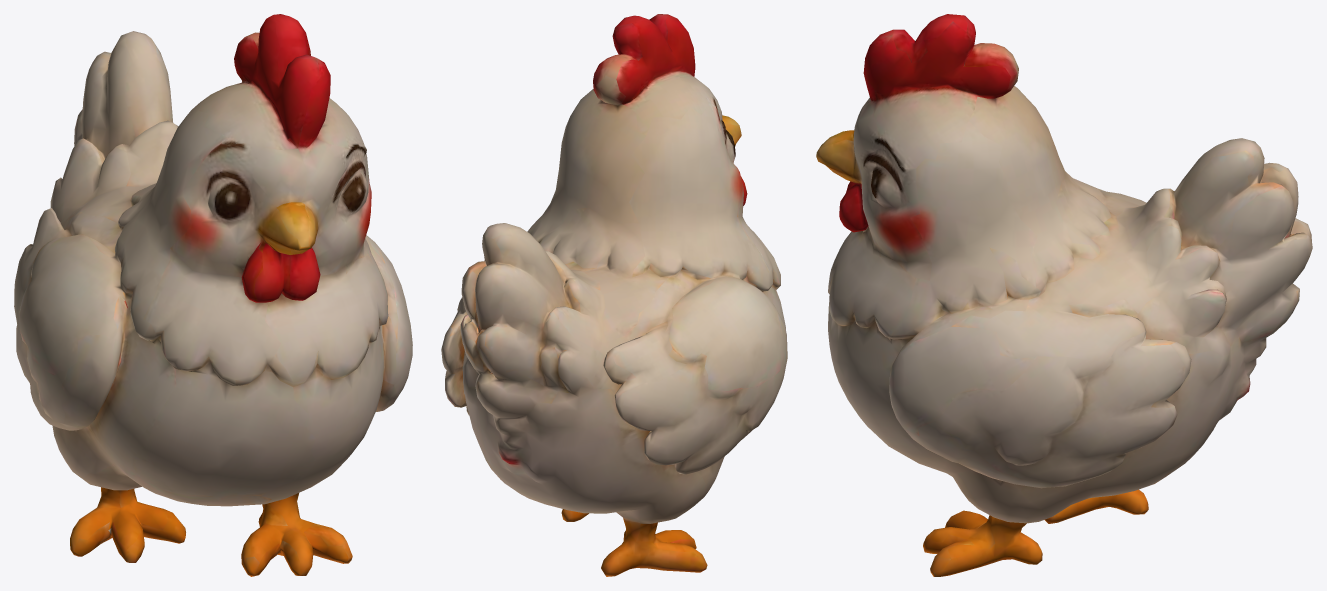
Rendered from chicken.glb.
3 views of the same model, side by side, from view 1: azimuth 30°, elevation 25°; view 2: azimuth 150°, elevation 25°; view 3: azimuth 270°, elevation 25° (orthographic). The views are drawn at different scales.
Parts seen in each view (by area): view 1: textured_mesh.obj; view 2: textured_mesh.obj; view 3: textured_mesh.obj.
Part boxes in pixels (bbox=[...]): textured_mesh.obj: bbox=[14, 14, 412, 576]; textured_mesh.obj: bbox=[441, 14, 787, 576]; textured_mesh.obj: bbox=[816, 14, 1312, 576].
Size of what is drawn, in the model's own units: 0.3551 by 0.55 by 0.4643.
1 material, 1 textured.
